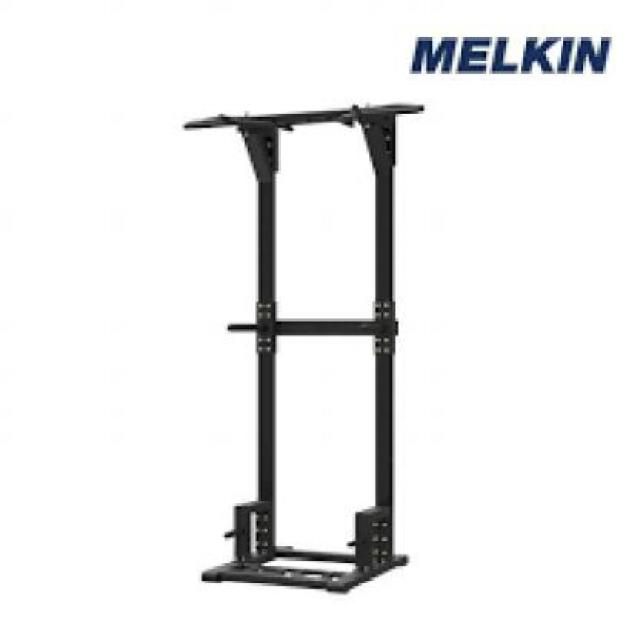chinning dipping: (184, 101, 424, 597)
